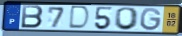5: (93, 6, 113, 31)
7: (47, 7, 66, 29)
B: (20, 4, 45, 30)
D: (67, 5, 92, 31)
G: (139, 7, 163, 32)
O: (113, 7, 141, 31)
